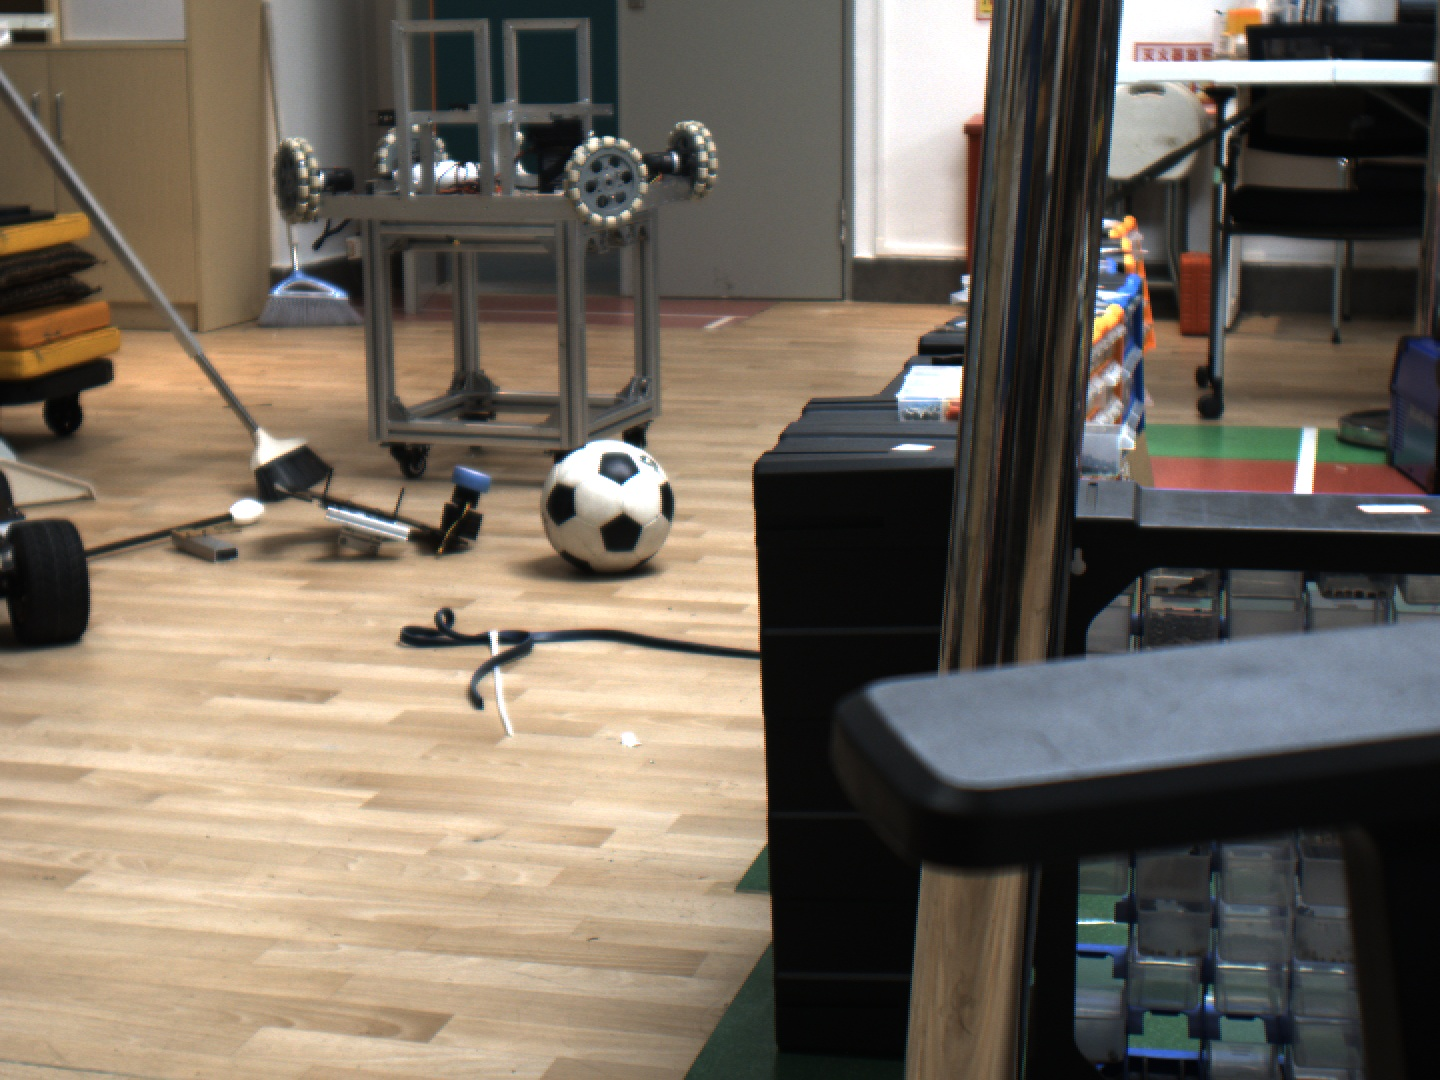ball: (536, 440, 680, 577)
